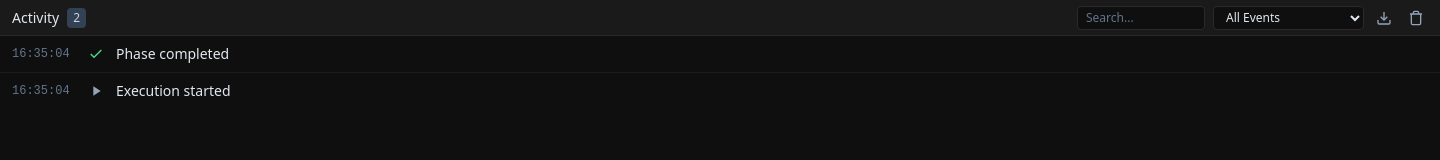
Test: ActivityLog › should filter events by type when filter selected
Select "Phase Complete" in the dropdown at (1288, 18), box x1=1213 y1=6 x2=1364 y2=30
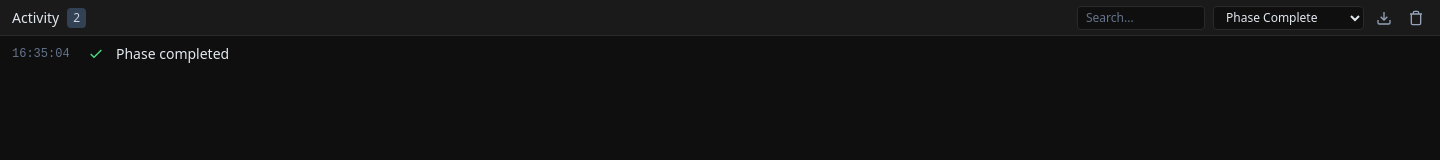
Check: the text "Phase completed" is shown, box x1=116 y1=44 x2=229 y2=63
Check: the text "Execution started" is gone
